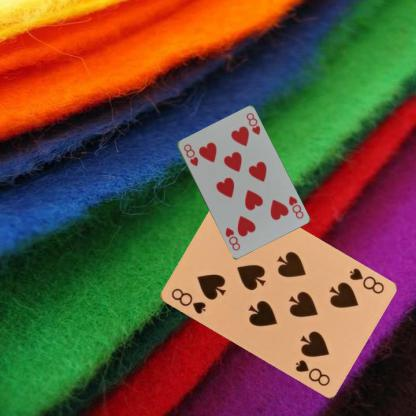8h: (181, 141, 199, 168), (286, 193, 304, 220)
8s: (168, 286, 207, 316), (346, 265, 385, 295)
